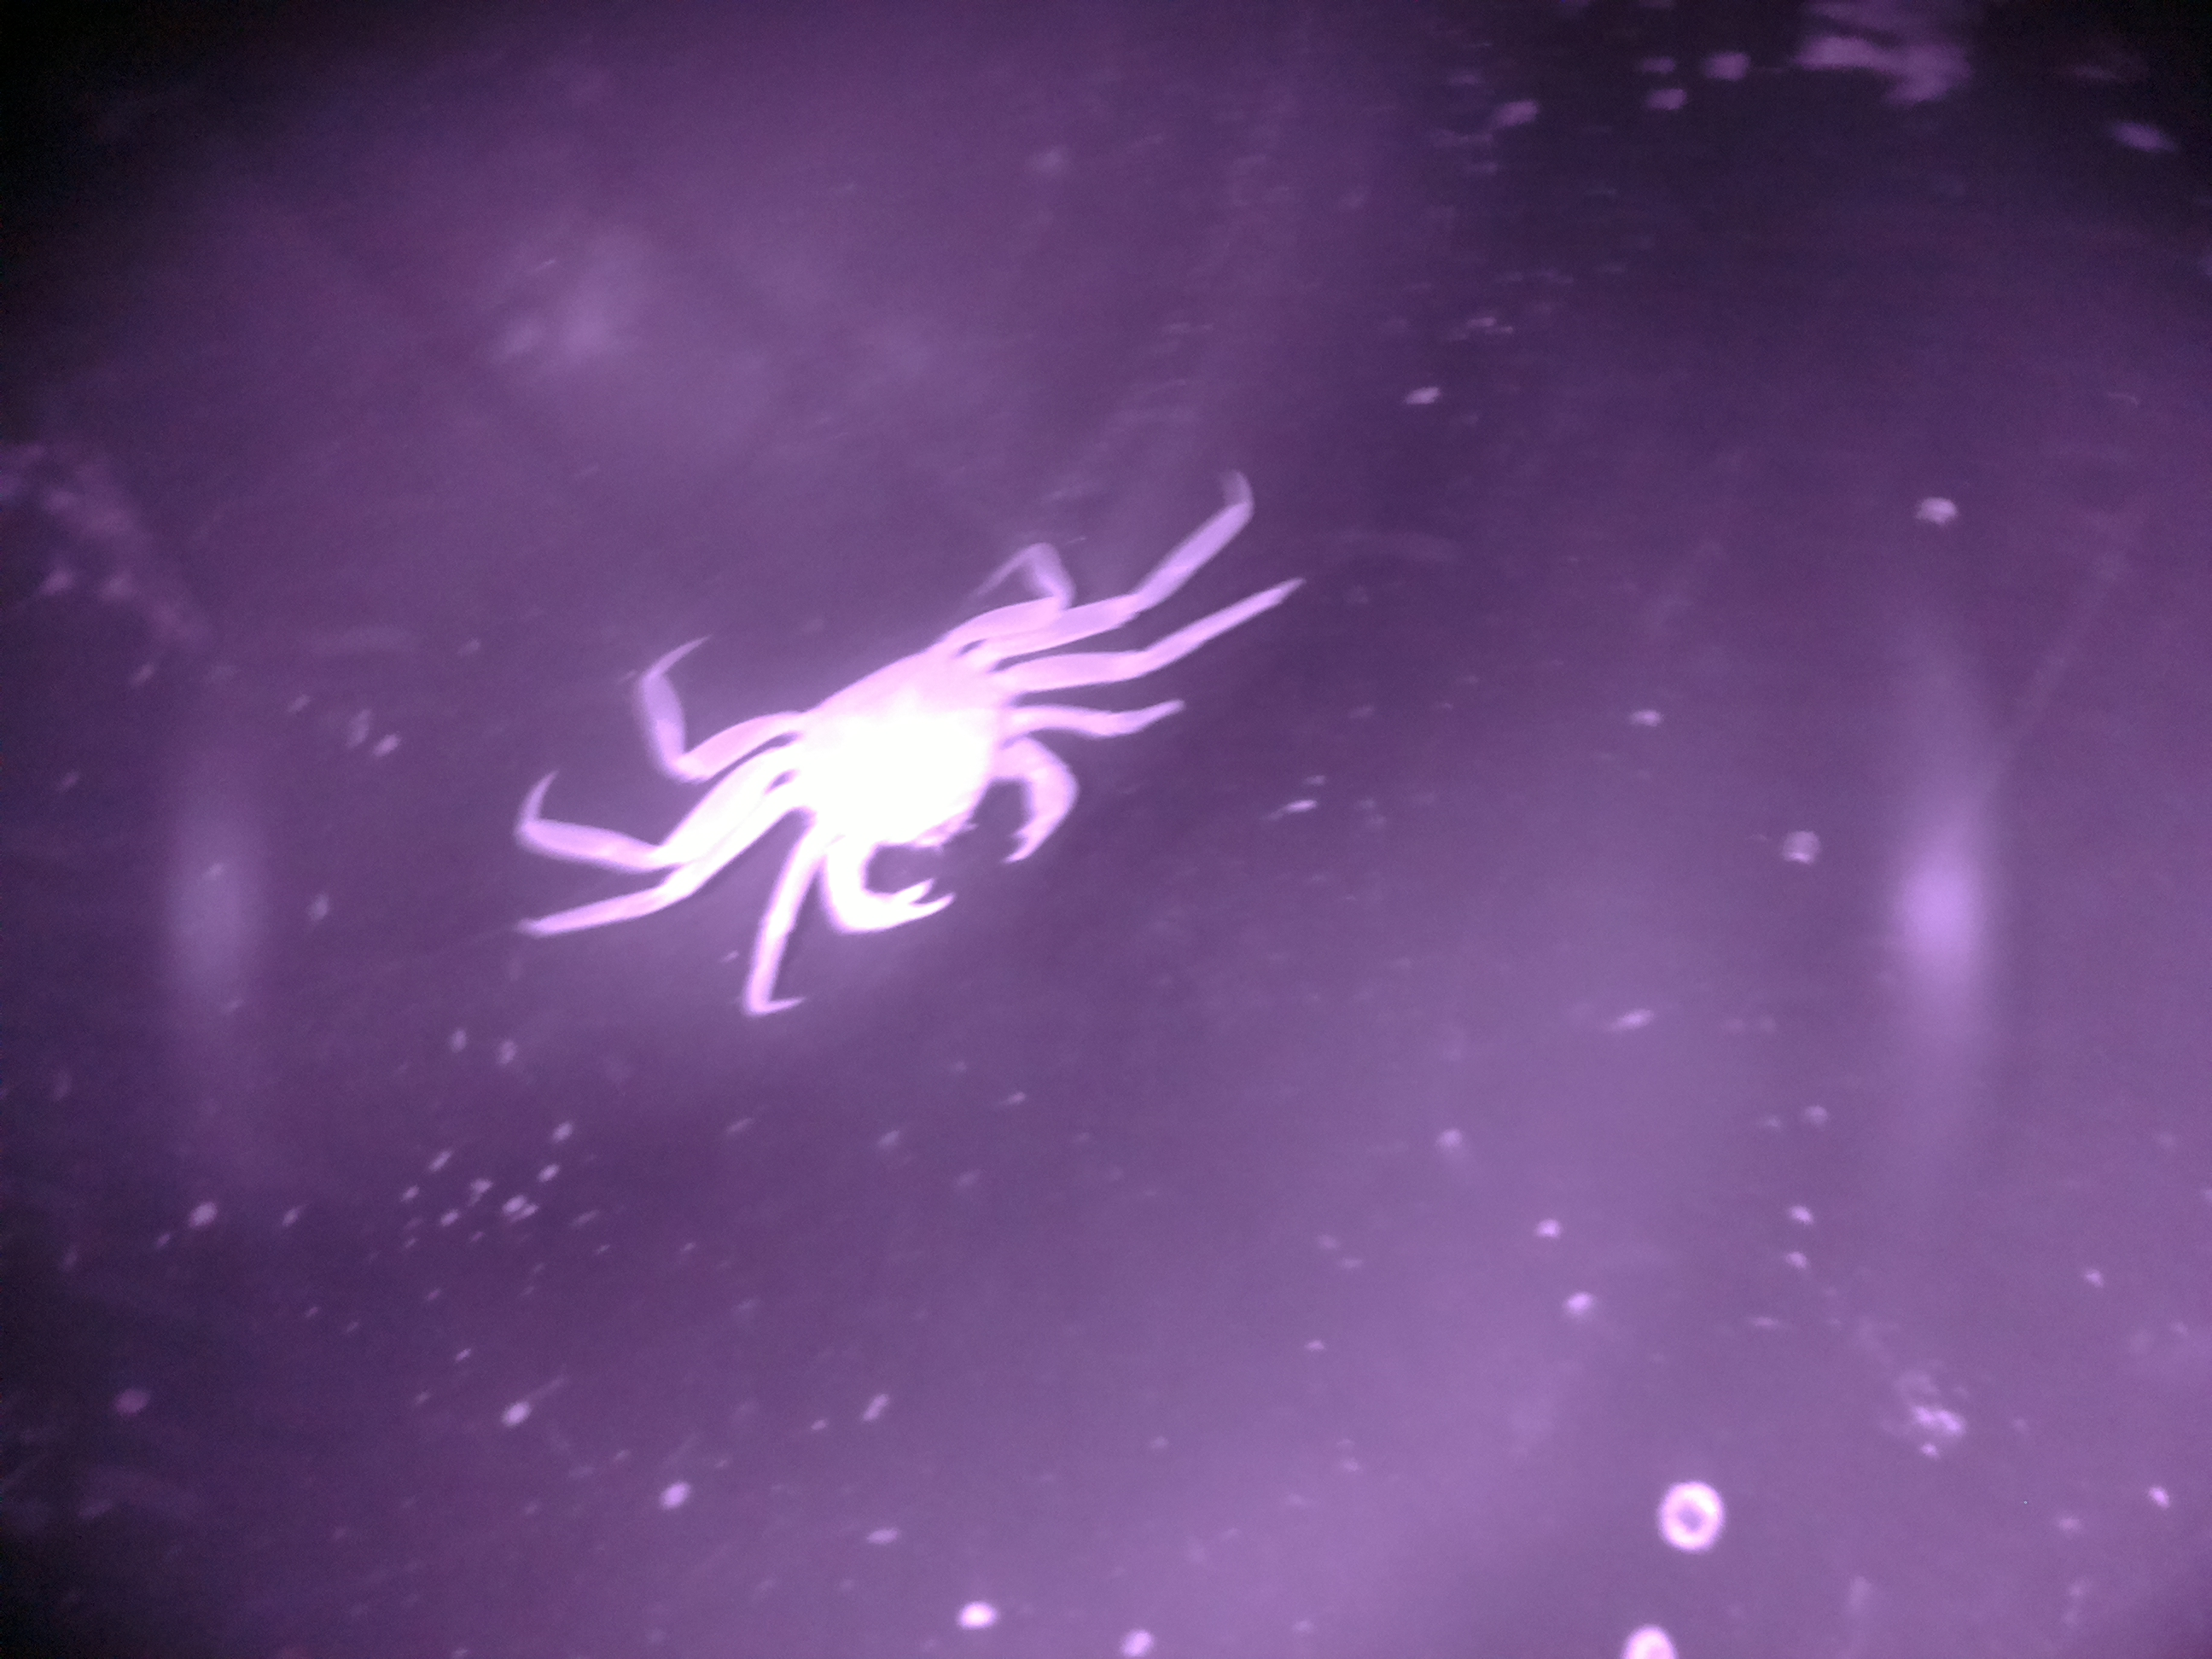Crab: (491, 441, 1310, 1049)
